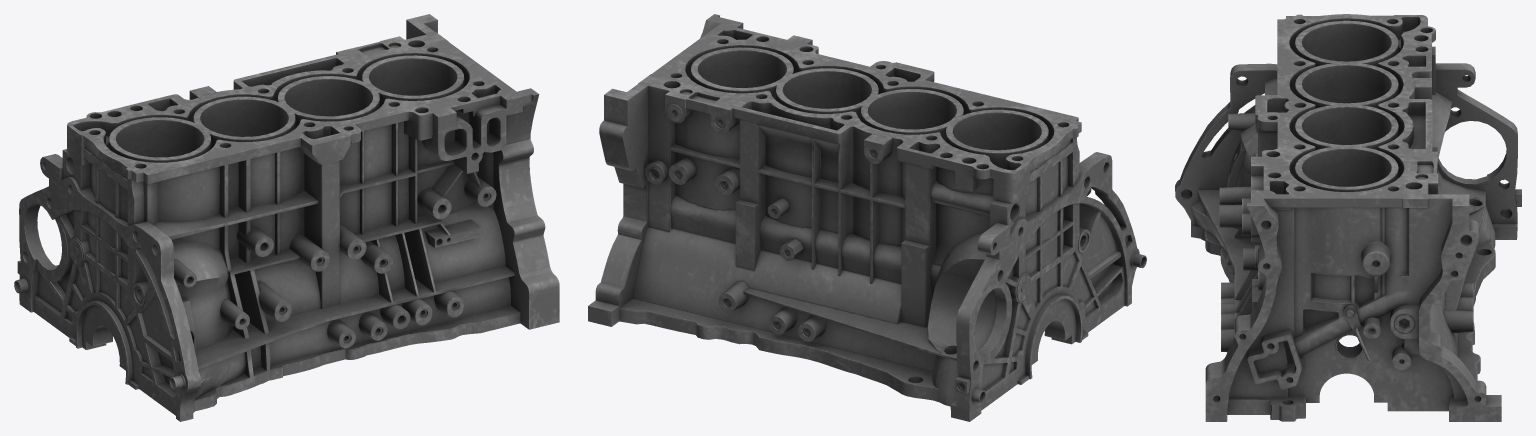
Rendered from SM_blockcylinder.fbx.
3 views of the same model, side by side, from view 1: azimuth 30°, elevation 25°; view 2: azimuth 150°, elevation 25°; view 3: azimuth 270°, elevation 25° (orthographic).
Visible parts, largest first — view 1: block_cylinder; view 2: block_cylinder; view 3: block_cylinder.
Part boxes in pixels (x1,y1,x2,y2): block_cylinder: (14, 14, 559, 421); block_cylinder: (588, 14, 1146, 421); block_cylinder: (1175, 14, 1521, 421).
Size of the model in its own units: 45.06 by 23.15 by 33.66.
1 material, 1 textured.
